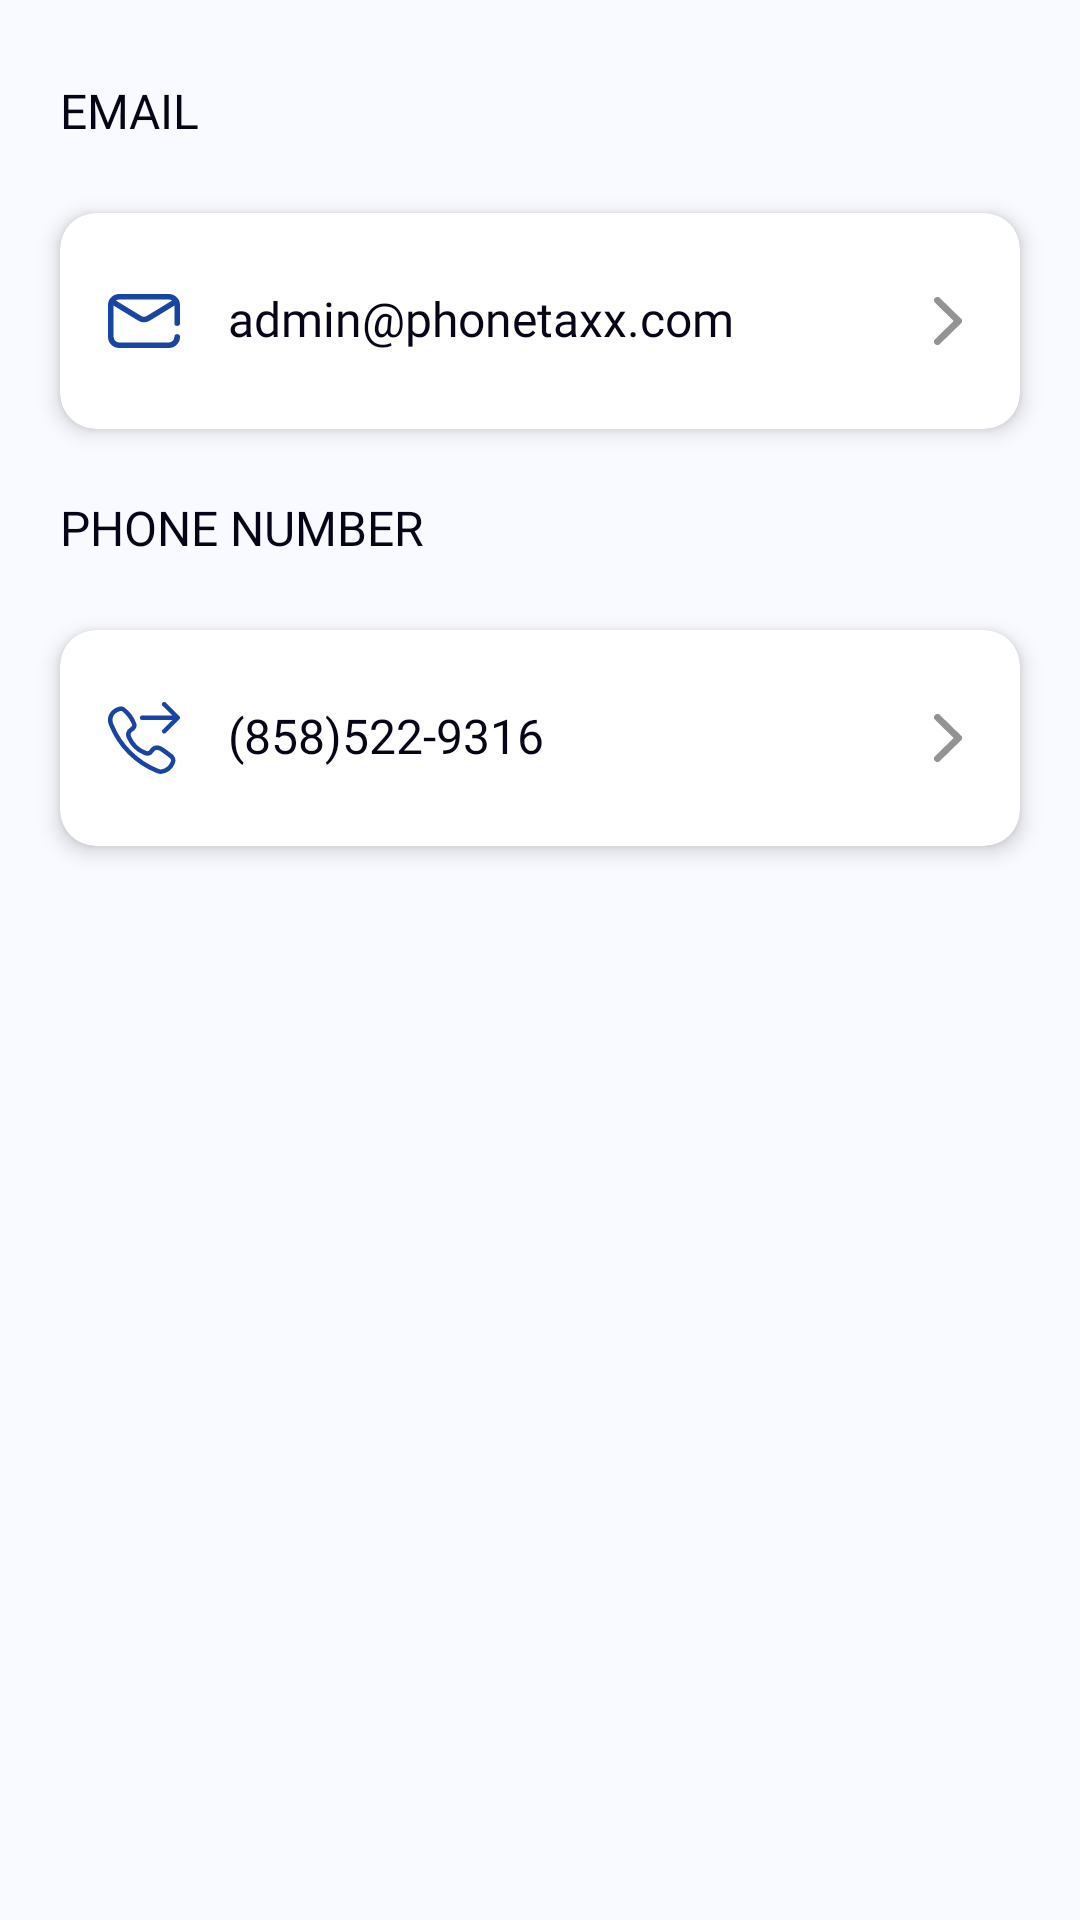

Named icons in this screenshot (1080 × 1920) and their bounding boxes, box(x1, y1, x2, y2):
arrow right: box(934, 297, 962, 345), box(934, 714, 962, 762)
call: box(108, 702, 180, 774)
